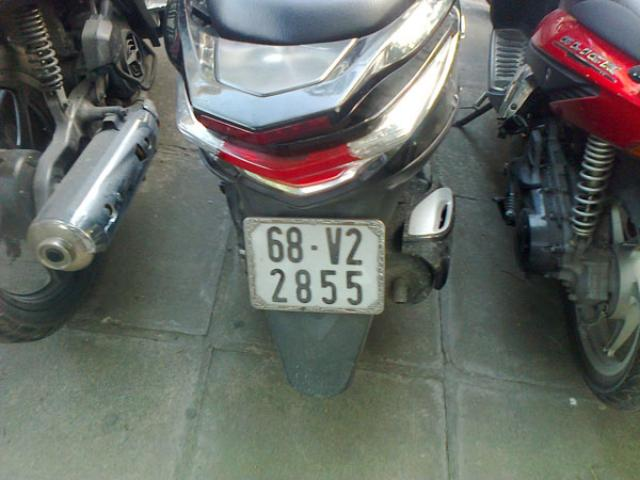plate: (244, 214, 390, 314)
